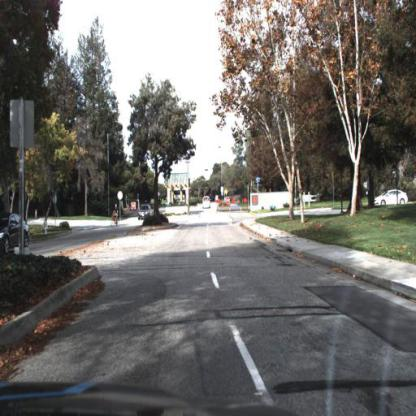biker: (109, 204, 123, 229), (111, 198, 121, 230)
car: (1, 210, 32, 255), (374, 187, 410, 211), (372, 187, 409, 207), (138, 204, 154, 221), (139, 205, 153, 220), (202, 196, 212, 212)
